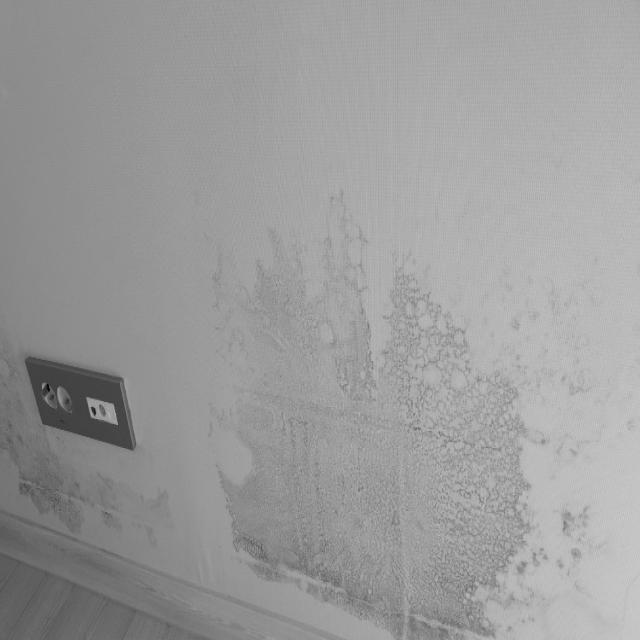stain marks: (220, 190, 524, 632), (506, 274, 628, 624), (2, 350, 167, 551)
